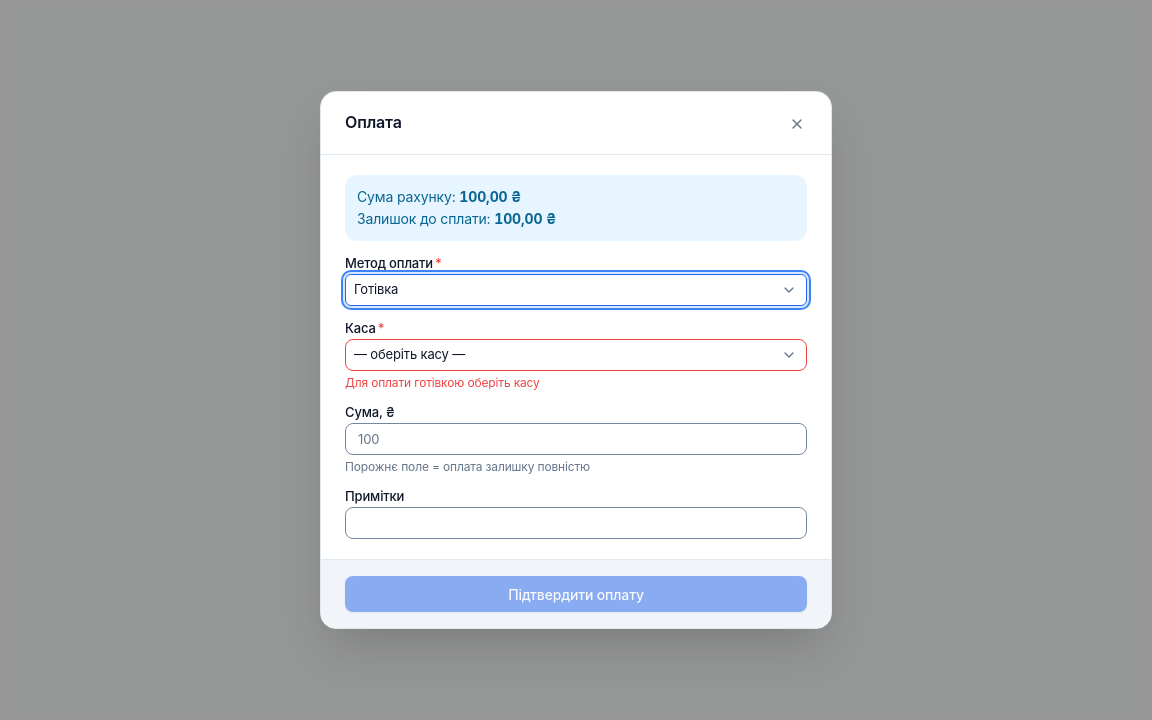
Test: ClientPaymentModal — каса для готівки (BR-PAY-019) › помилка сервера (закрита зміна фіскальної каси) — у самому вікні, вікно лишається
Select "Каса головна" in the dropdown labelled "Каса*" at (576, 355), box [345,339,807,371]
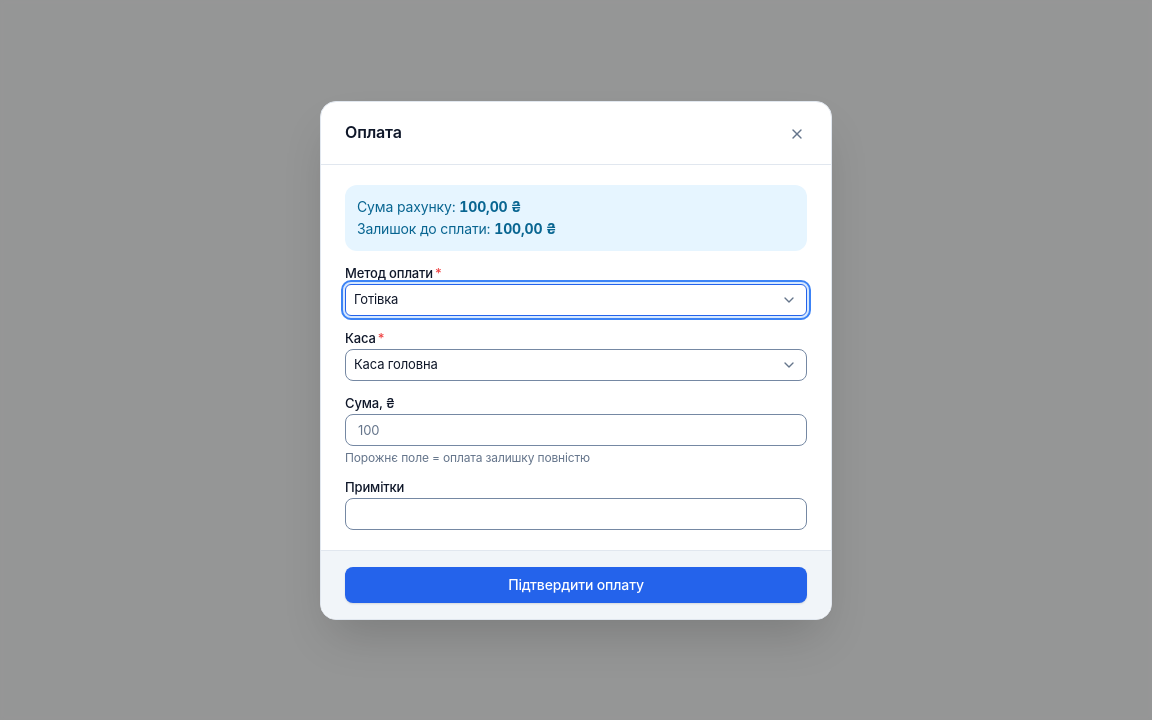
Click the button "Підтвердити оплату".
click(576, 584)  # box [345,566,807,602]
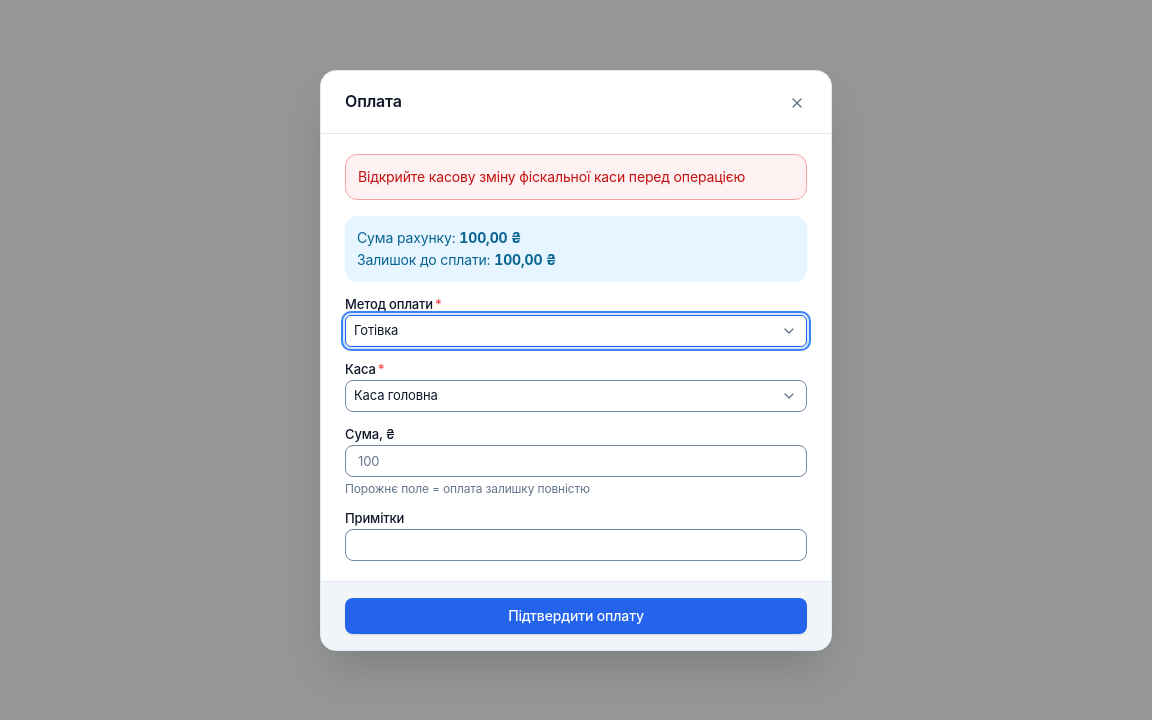
Check: the message reads "Відкрийте касову зміну фіскальної каси перед операцією", box [358,168,745,184]
